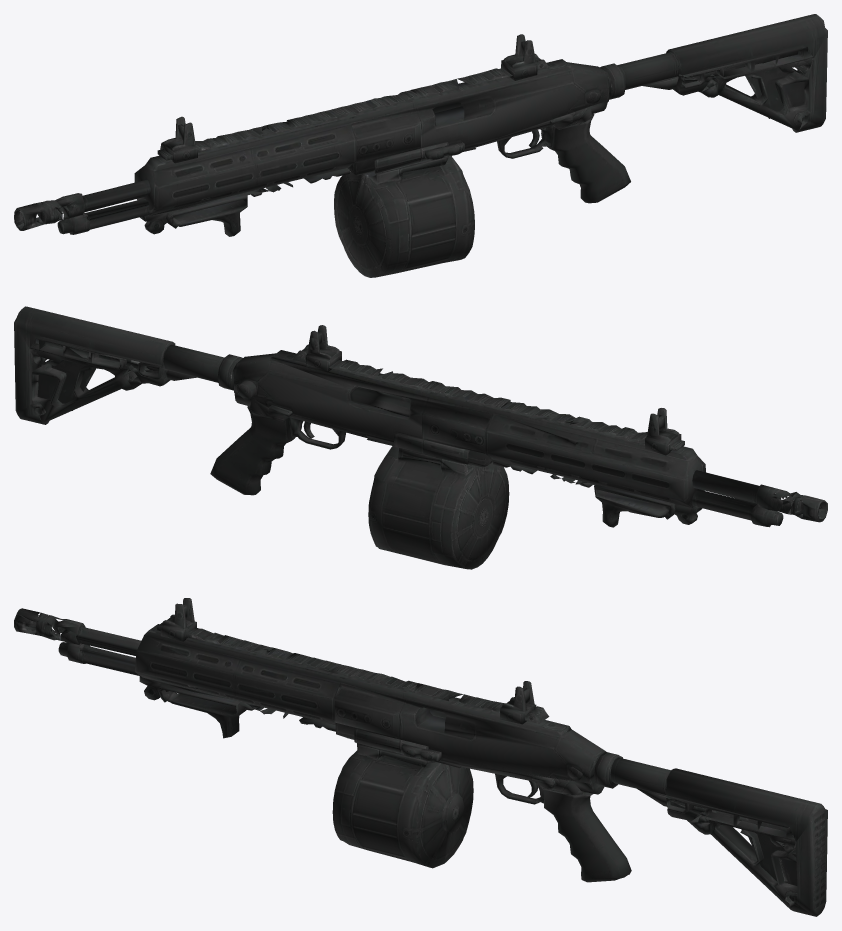
The model's file is arma_pompauto.glb.
3 renders of one model, top to bottom at view 1: azimuth 30°, elevation 25°; view 2: azimuth 150°, elevation 25°; view 3: azimuth 330°, elevation 25°, orthographic.
Bounding box in the file's own units: 0.957 × 0.227 × 0.1206.
1 material, 1 textured.
